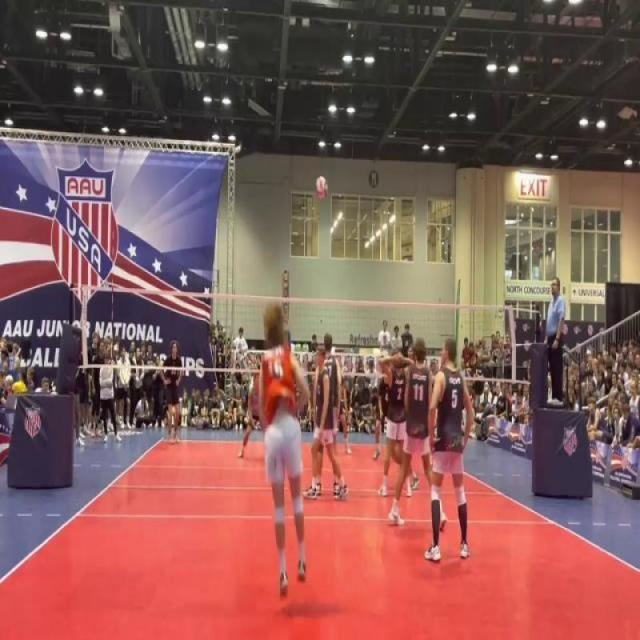volleyball: (314, 174, 328, 201)
